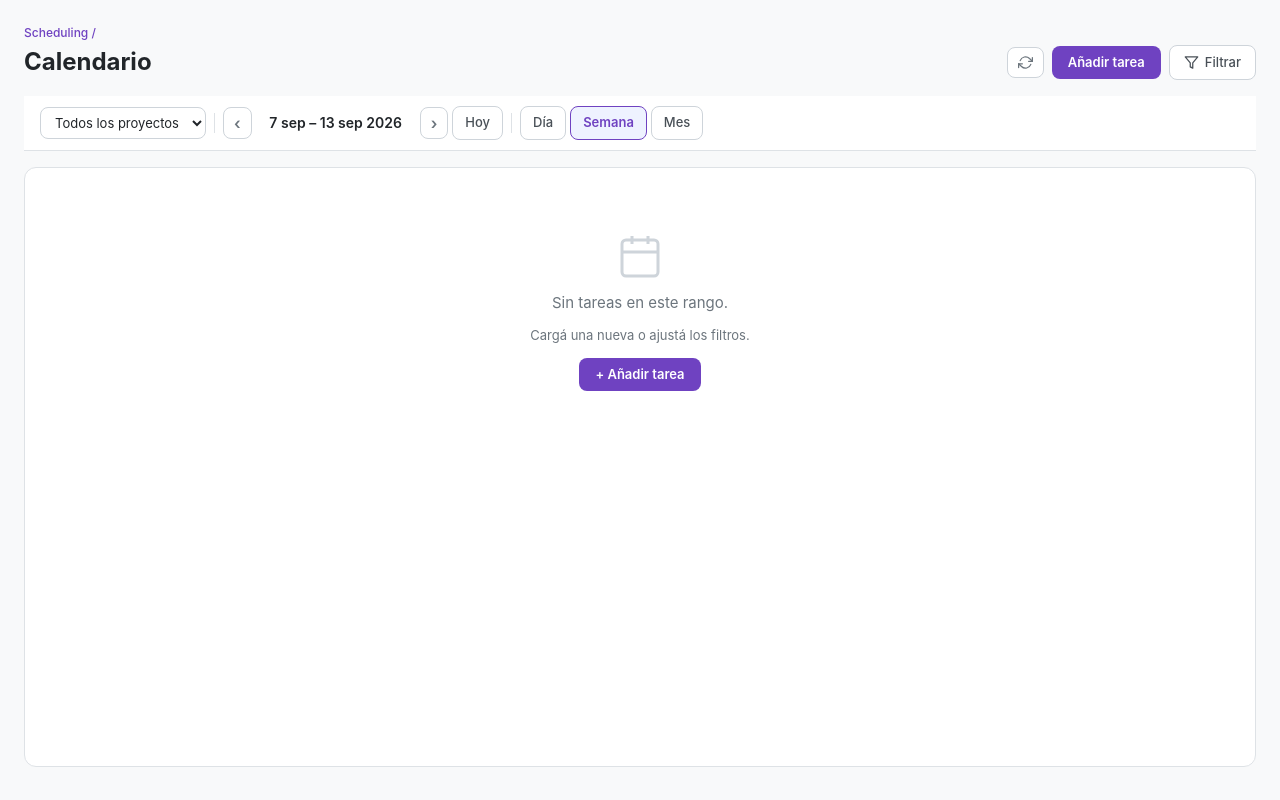
Scenario: SchedulingCalendarPage — create modal › keeps "Crear tarea" disabled on open (contract required, no contract yet)
Click the button "Añadir tarea" at x=1106, y=62, box top-left (1052, 46), bottom-right (1161, 79)
(page scrolled)
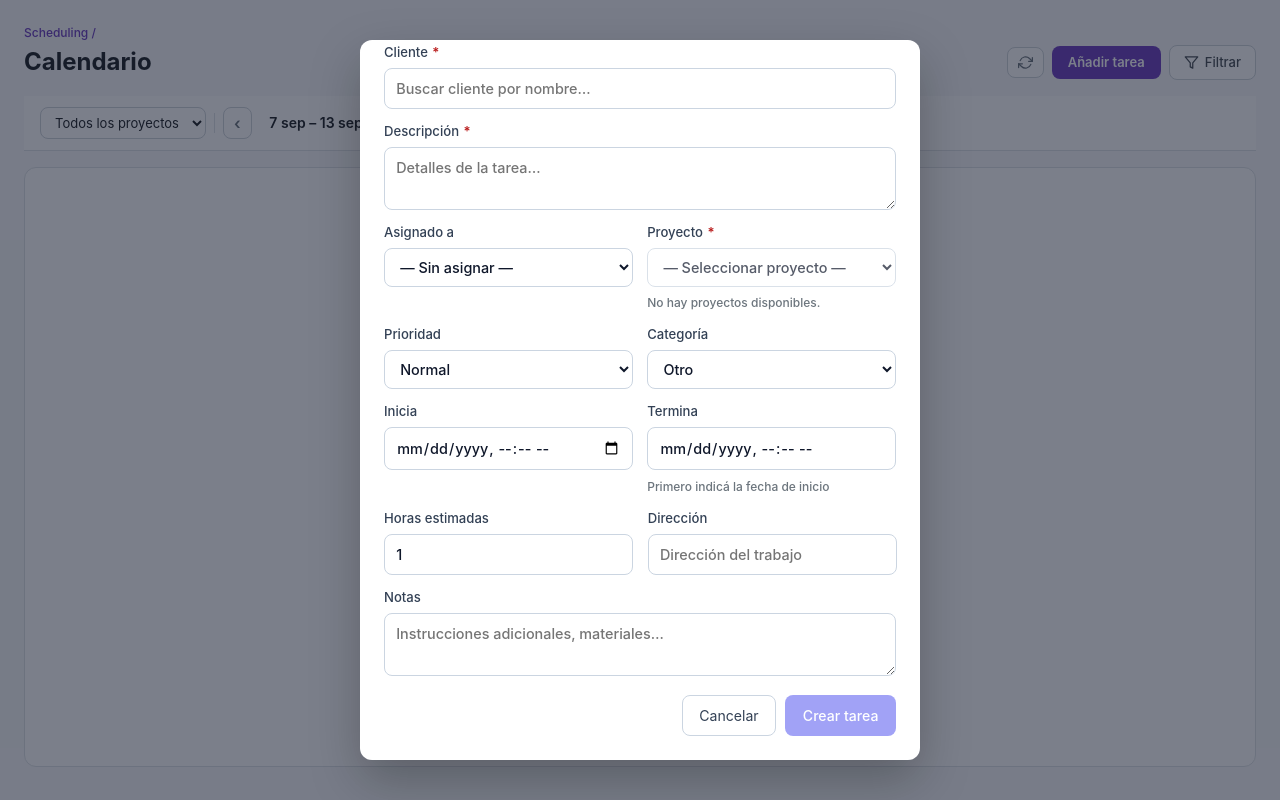
Result: the button "Crear tarea" is disabled at top-left (785, 695), bottom-right (896, 736)
